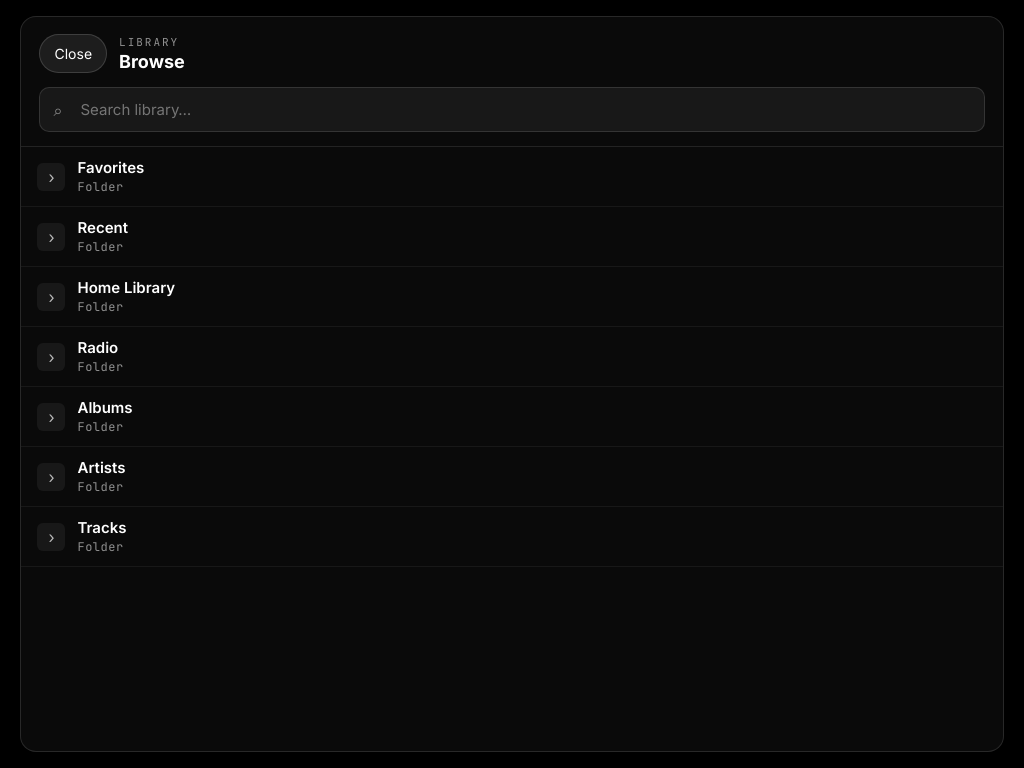
Test: LibraryDrawer · Home Library › opening an album search hit leaves search and lists its tracks
The image size is (1024, 768).
Step 1. Click the text "Home Library" → {"x": 126, "y": 288}, box [78, 278, 175, 297]
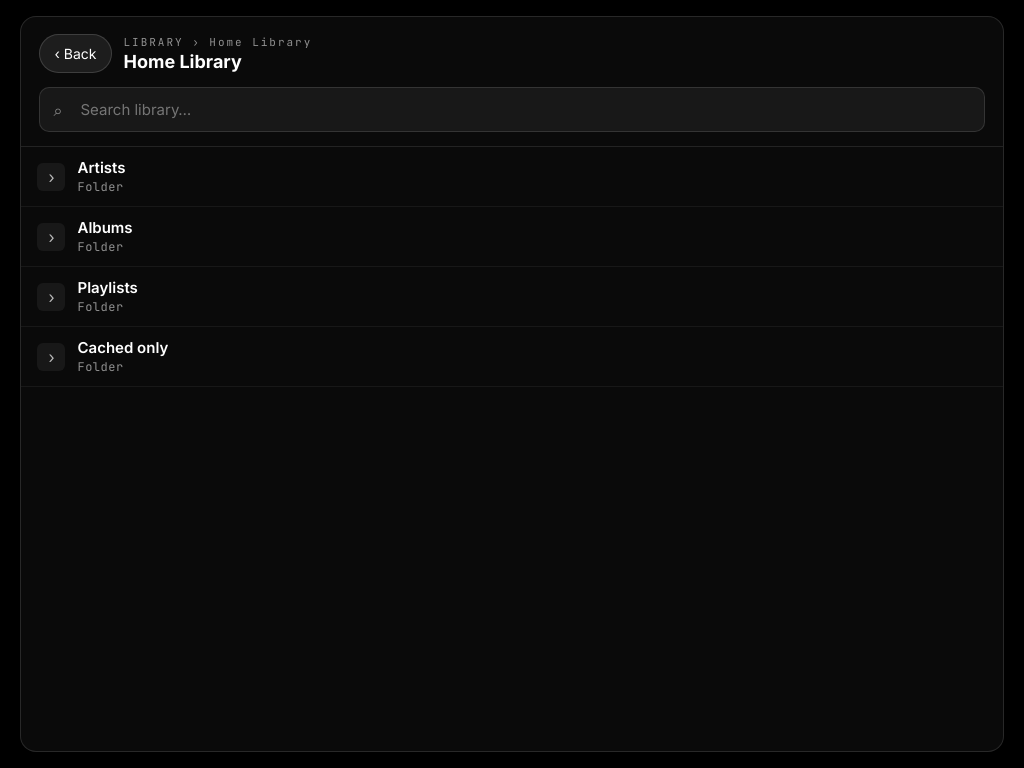
Expected: the text "Artists" is shown, [78, 158, 126, 177]
Step 2. Type "rec" into the search field with placeholder "Search library…" → {"x": 512, "y": 110}, box [40, 87, 984, 132]
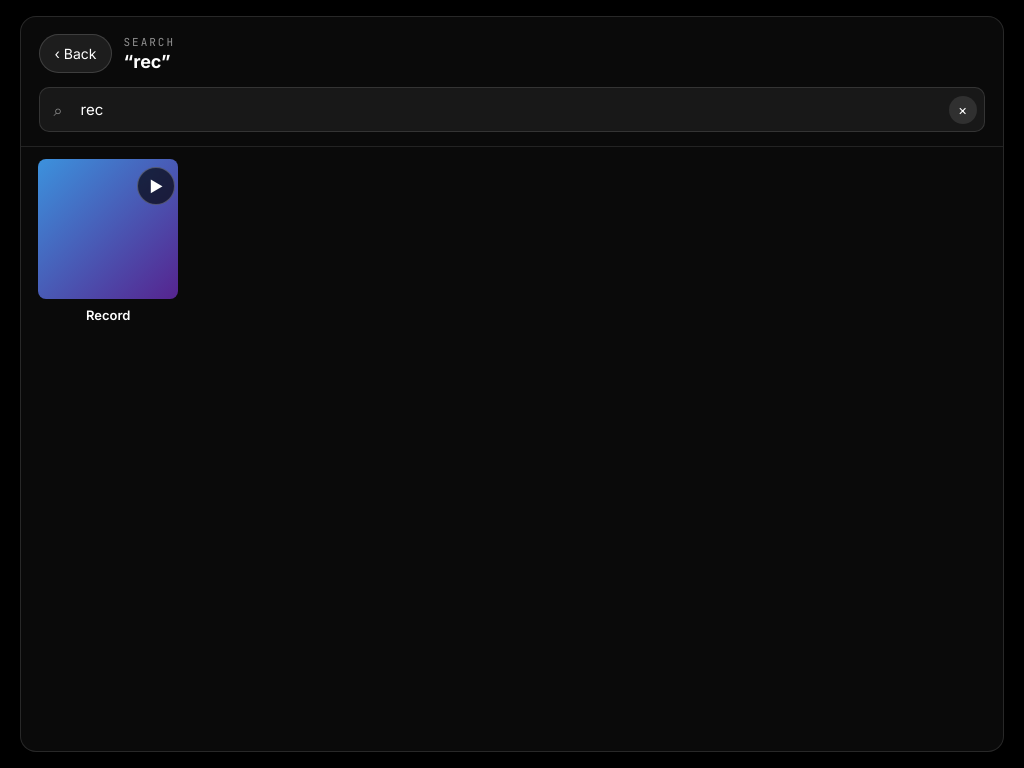
Step 3. Click the text "Record" → {"x": 108, "y": 315}, box [86, 307, 130, 323]
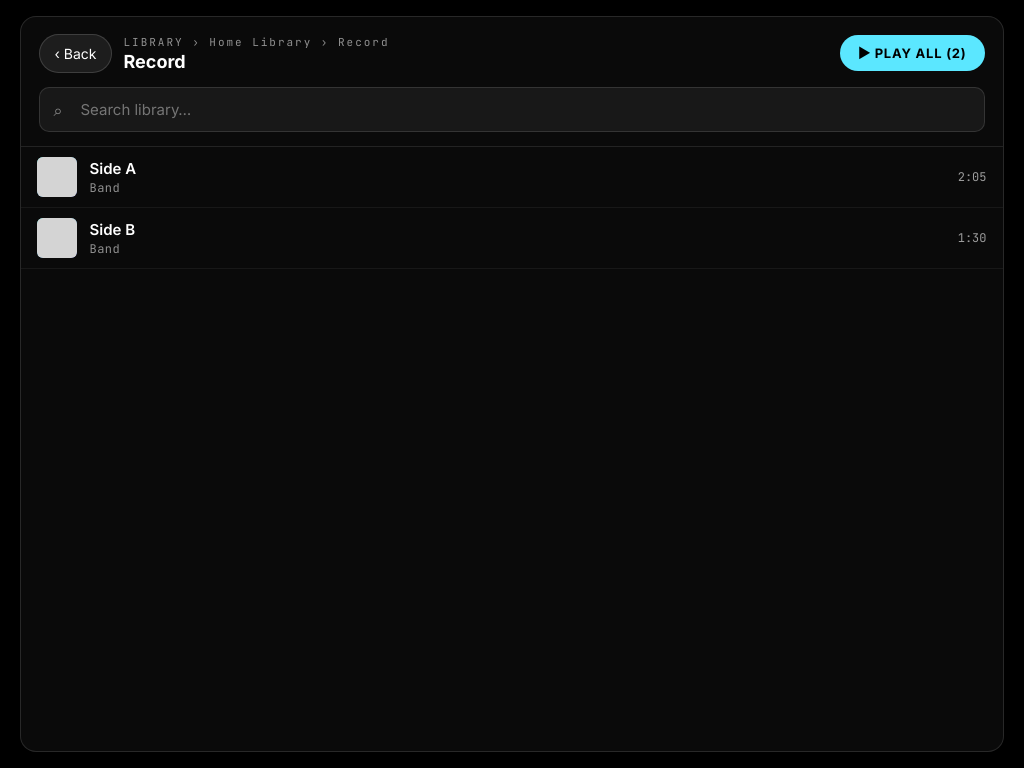
Expected: the text "Side B" is shown, [90, 220, 135, 238]
Expected: the text "Side A" is shown, [90, 158, 136, 178]
Expected: the search field with placeholder "Search library…" is empty, [40, 87, 984, 132]
Note: One Back returns to the level the search started from.
Step 4. Click the button "‹ Back" → {"x": 76, "y": 53}, box [40, 34, 112, 72]
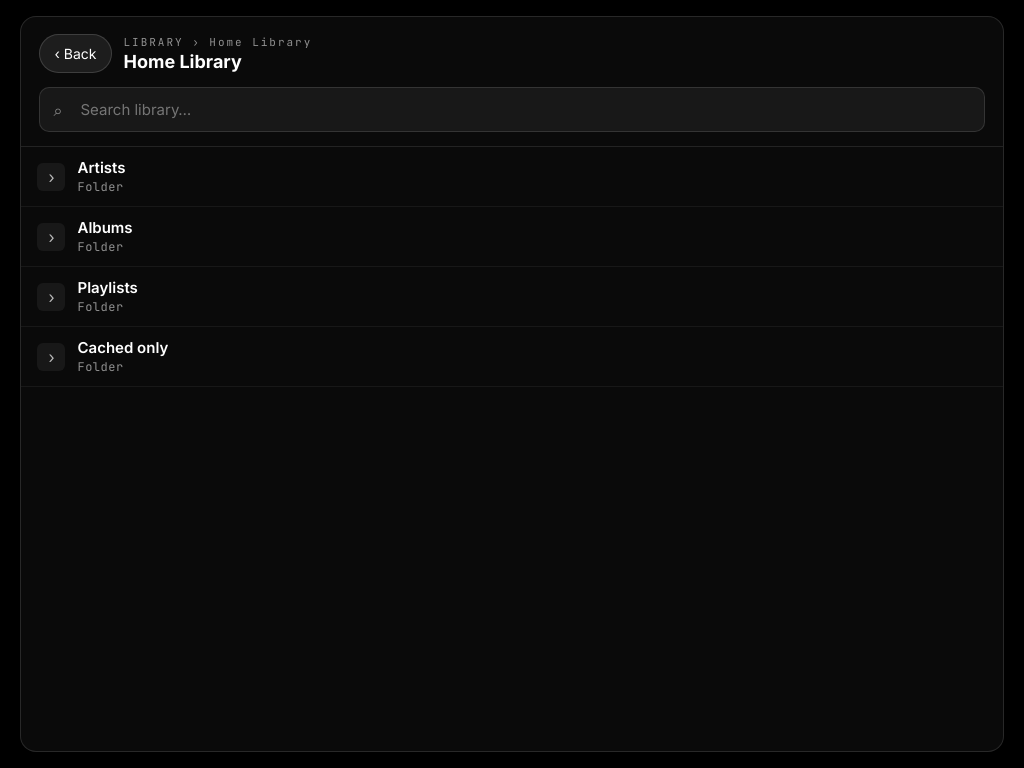
Expected: the text "Artists" is shown, [78, 158, 126, 177]
